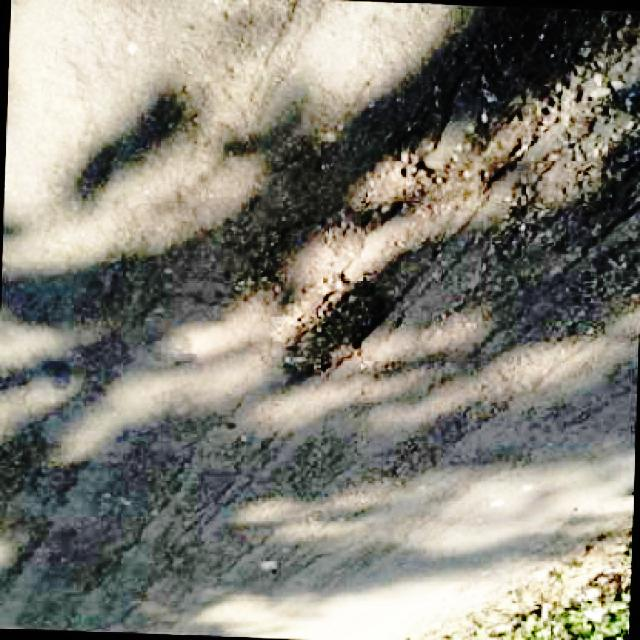pothole: (421, 10, 640, 229), (262, 195, 391, 377)
